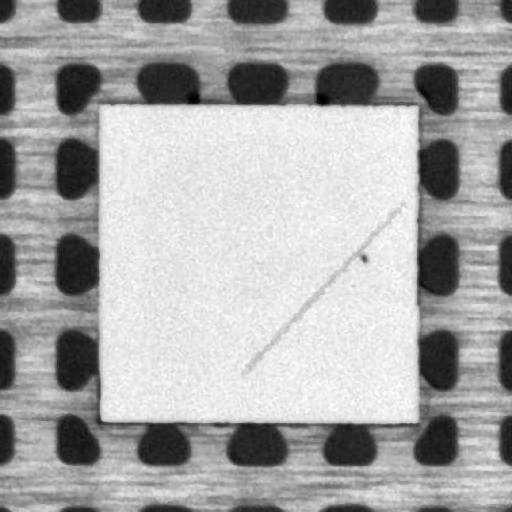DIE_CRACK: (241, 202, 402, 372)
